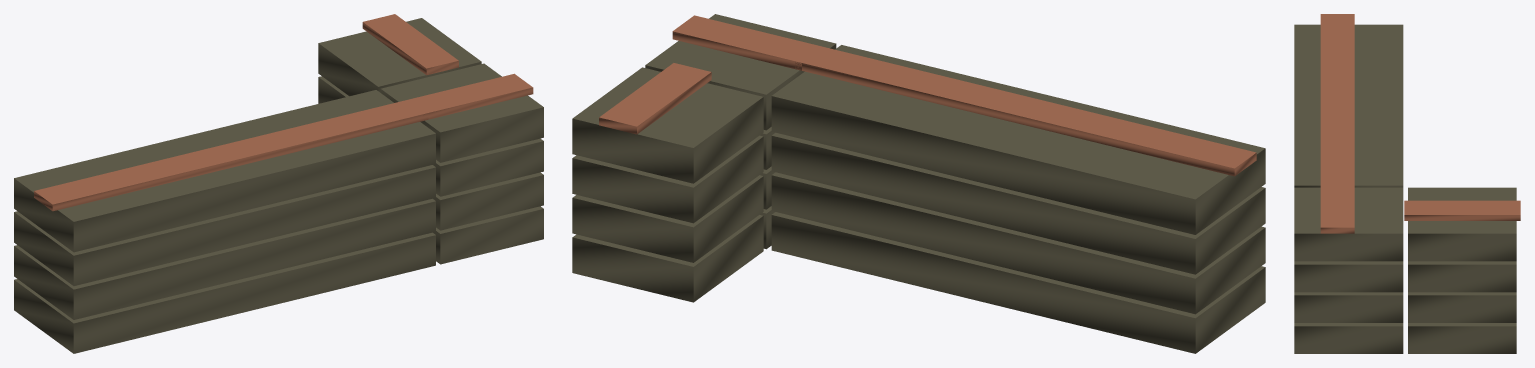
File: SM_SacosRemateEspejo_v3_Tablon_e0_Sano_LOD1.fbx
3 renders of one model, left to right at view 1: azimuth 30°, elevation 25°; view 2: azimuth 150°, elevation 25°; view 3: azimuth 270°, elevation 25°, orthographic. The views are drawn at different scales.
Visible parts, largest first — view 1: SM_sacos_piezas_v32_LOD1; view 2: SM_sacos_piezas_v32_LOD1; view 3: SM_sacos_piezas_v32_LOD1.
Boxes of the visible parts, box(x1,y1,x2,y2) form: SM_sacos_piezas_v32_LOD1: box(14, 14, 543, 353); SM_sacos_piezas_v32_LOD1: box(572, 14, 1265, 353); SM_sacos_piezas_v32_LOD1: box(1294, 14, 1520, 353).
Bounding box in the file's own units: 4.46 × 1.24 × 1.99.
